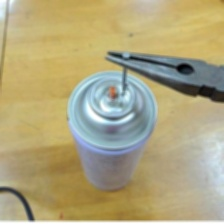aerosol_cans: (61, 63, 162, 195)
